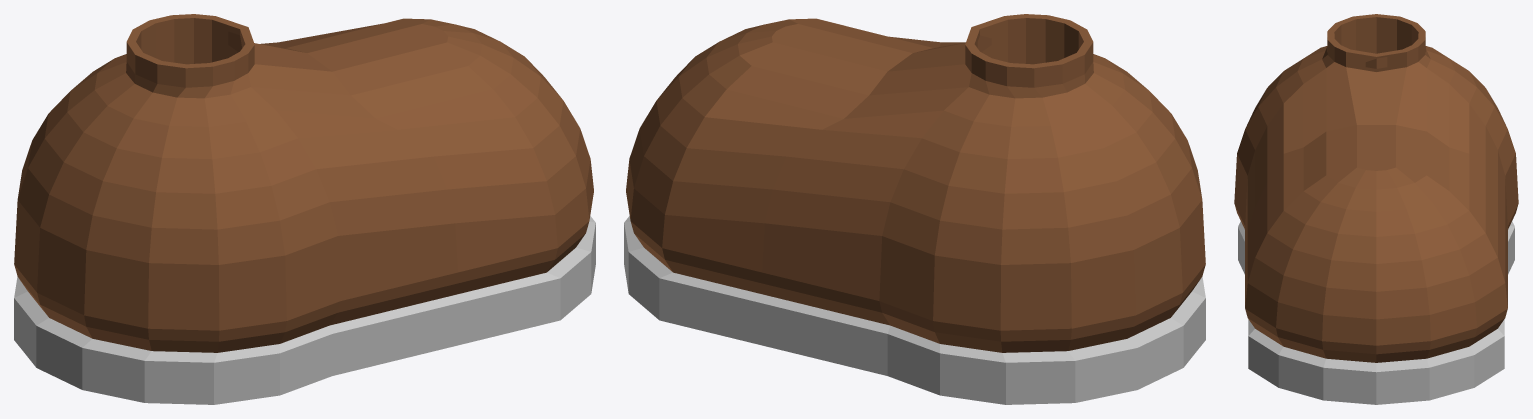
File: Shoe.fbx
3 renders of one model, left to right at view 1: azimuth 30°, elevation 25°; view 2: azimuth 150°, elevation 25°; view 3: azimuth 270°, elevation 25°, orthographic. The views are drawn at different scales.
Visible parts, largest first — view 1: Shoe; view 2: Shoe; view 3: Shoe.
Boxes of the visible parts, bbox=[...] form: Shoe: bbox=[14, 14, 595, 404]; Shoe: bbox=[624, 14, 1205, 404]; Shoe: bbox=[1234, 14, 1518, 404].
Bounding box in the file's own units: 339 × 174 × 200.
